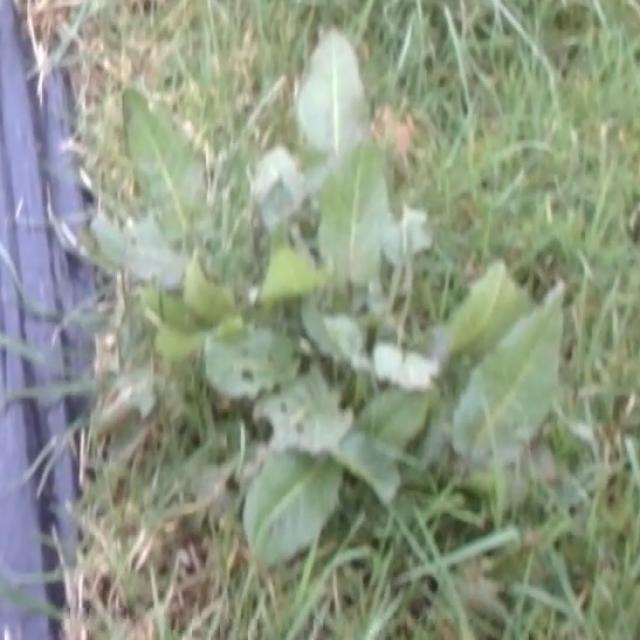organic waste: (125, 56, 599, 621)
